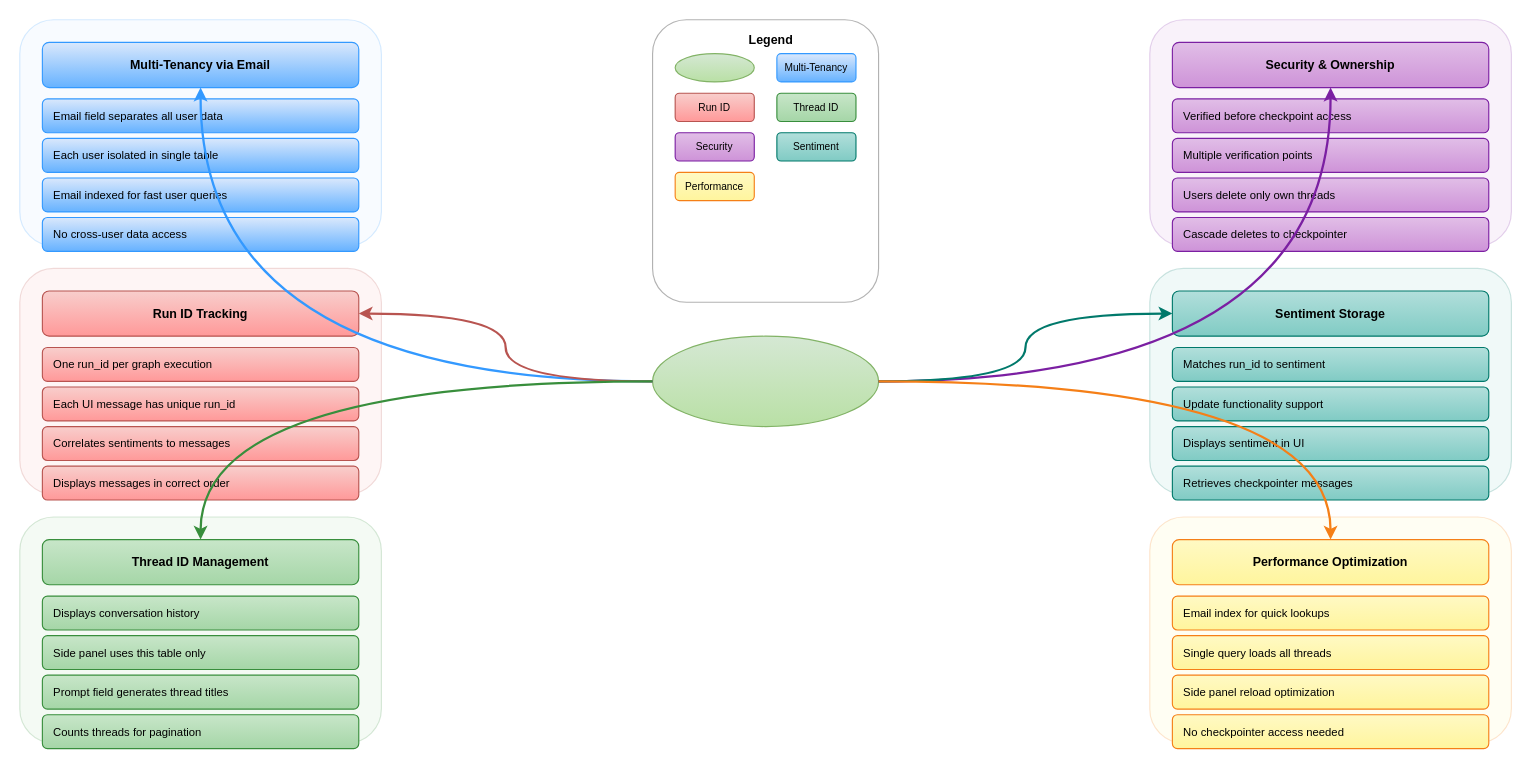
Image size: 1531x768. Some labels were removed from this diagram. The centre of each missing label's shape, as x and y in pixels:
"Table" belongs at (714,67).
"users_threads_runs" belongs at (765,381).
